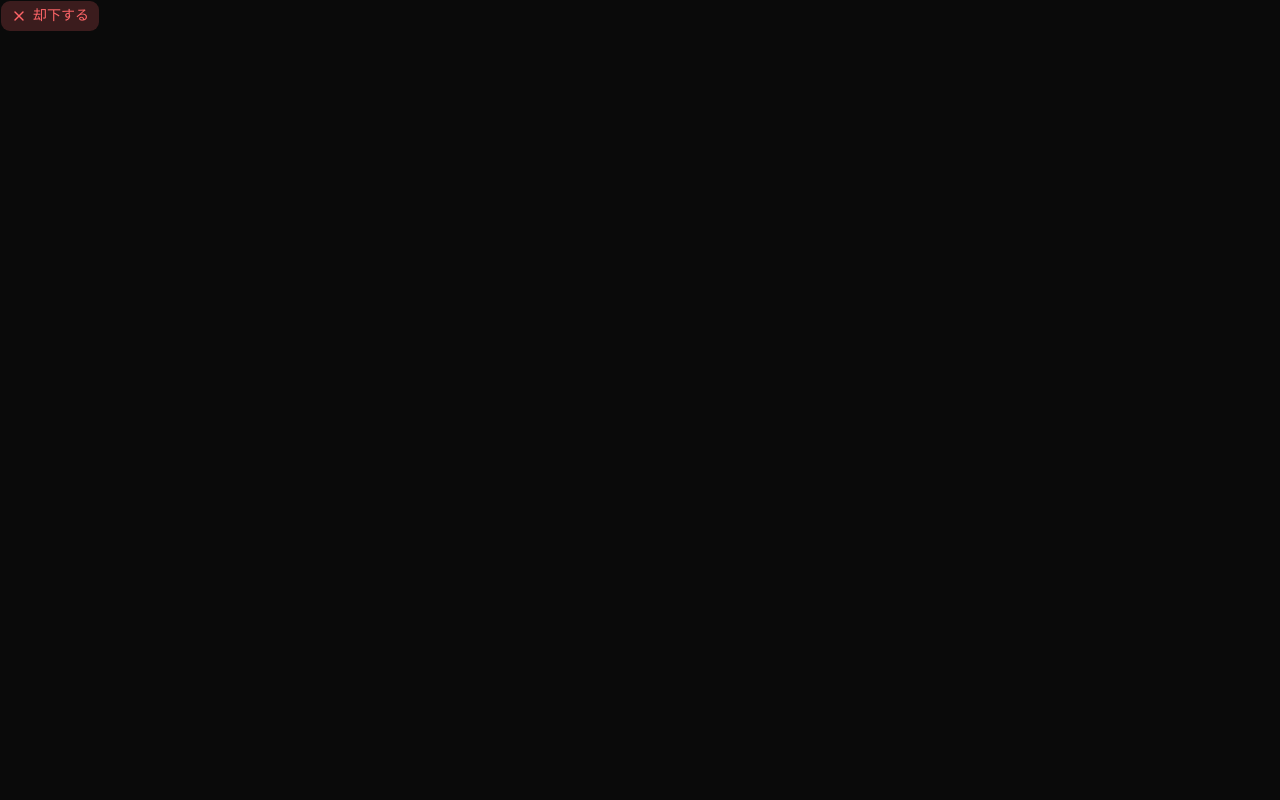
Test case: RejectRequestDialog › 却下に成功するとDialogを閉じて画面を再取得する
This screenshot has width=1280, height=800.
Click the button "却下する" at (50, 16), box [0,0,100,32]
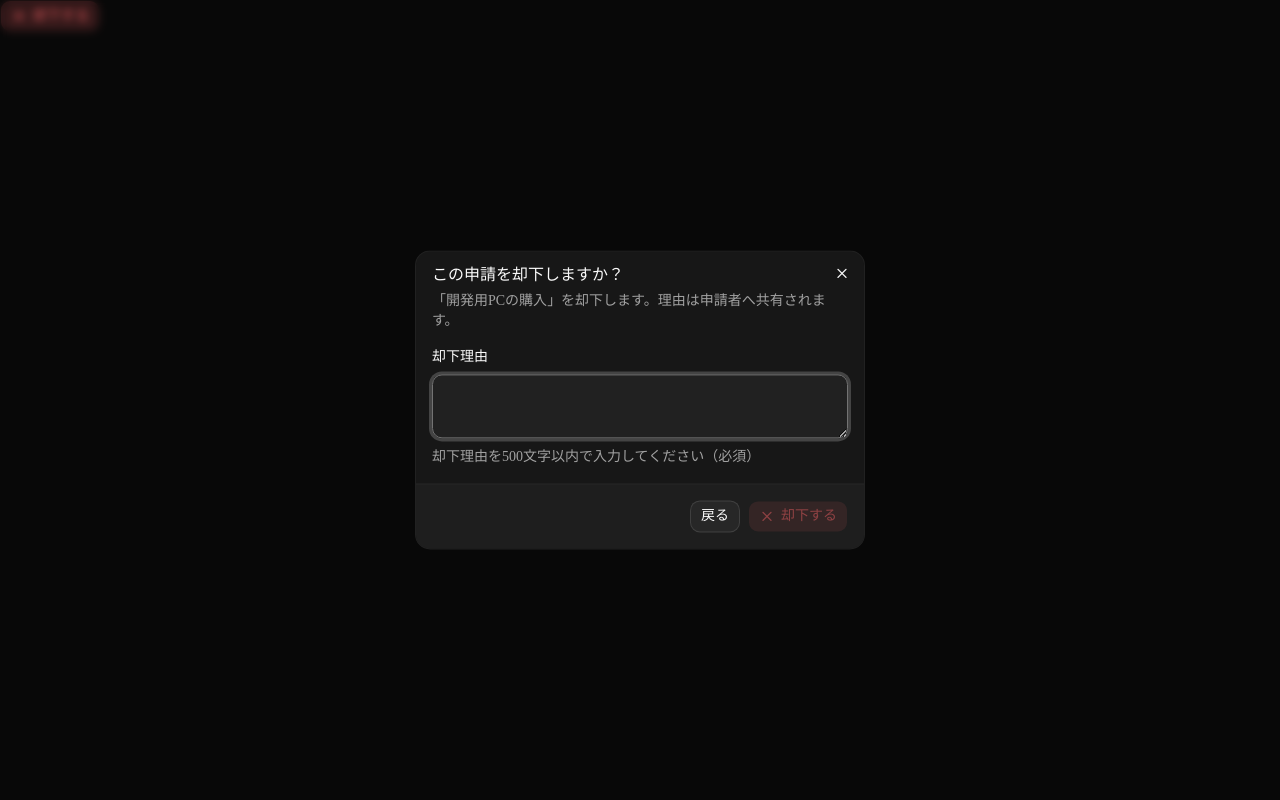
Type "予算上限を超えているため" into the text box labelled "却下理由" at (640, 407), box [432,375,848,439]
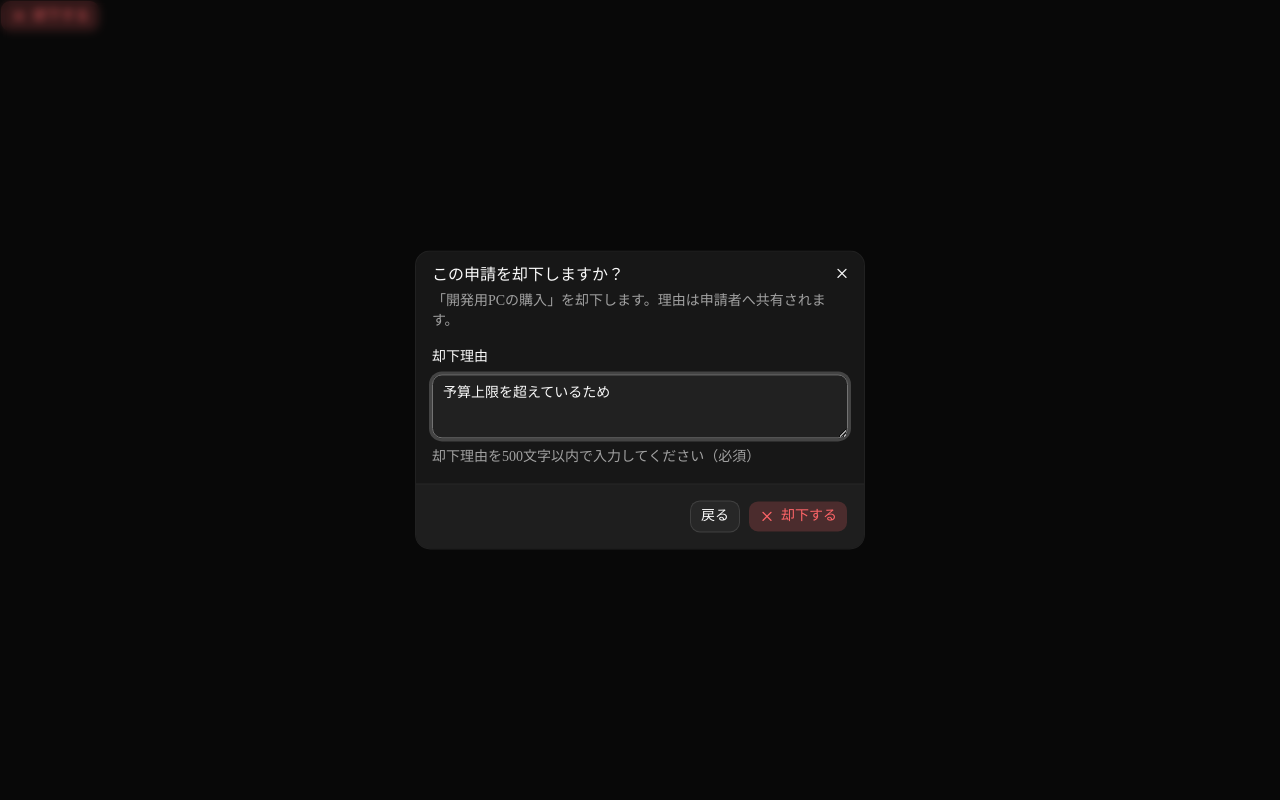
Click the button "却下する" at (798, 517), box [748,501,848,533]
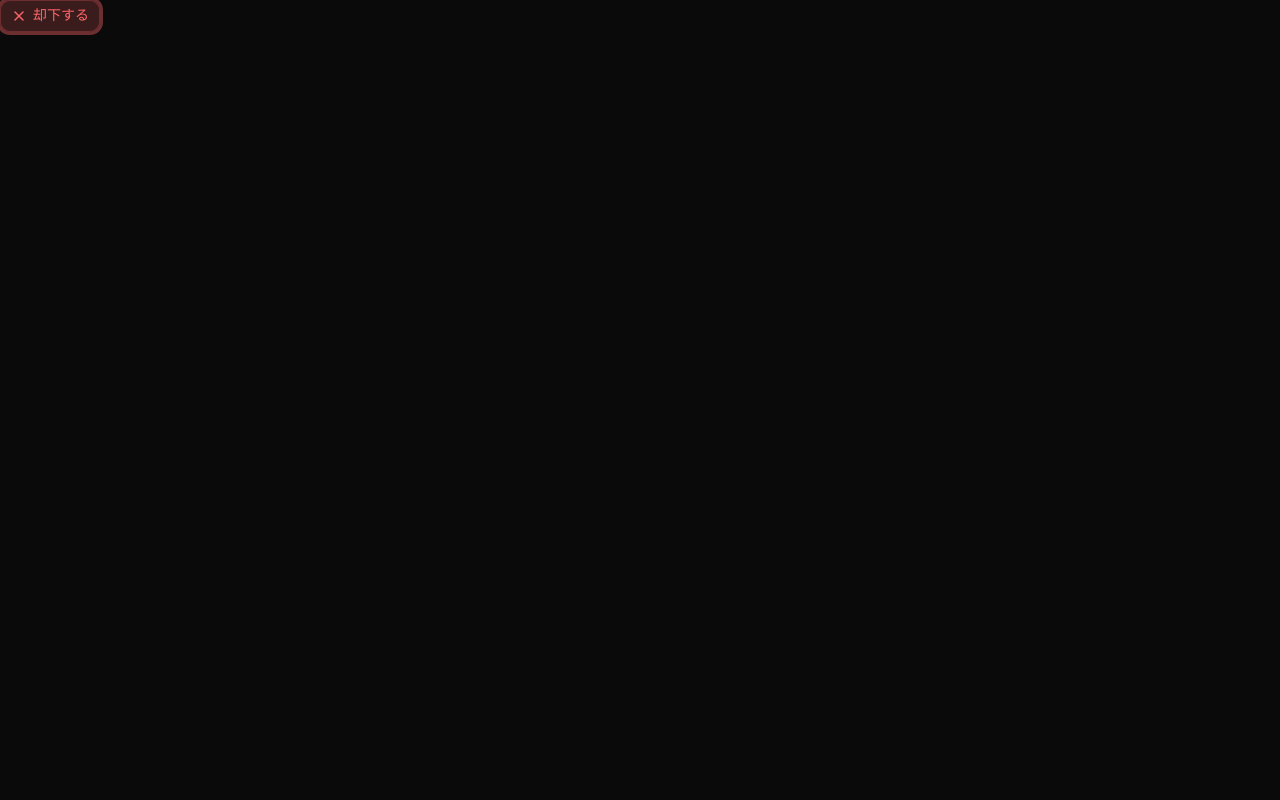
Now the dialog is gone
